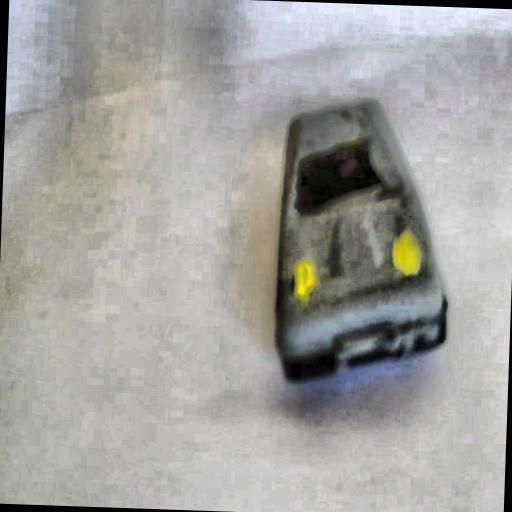normal_car: (266, 91, 460, 390)
